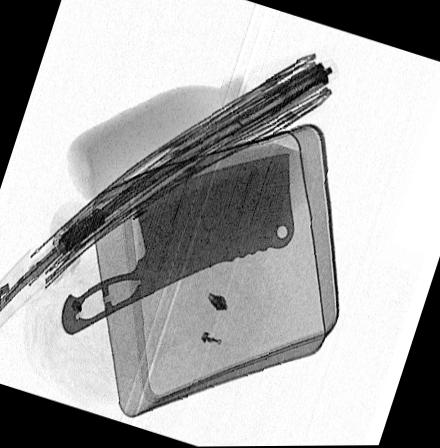Knife: (58, 152, 297, 337)
